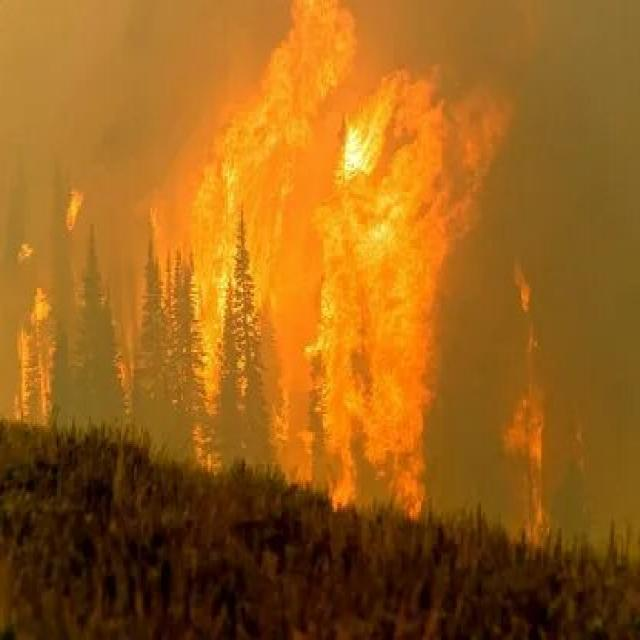Fire: (233, 0, 487, 551)
